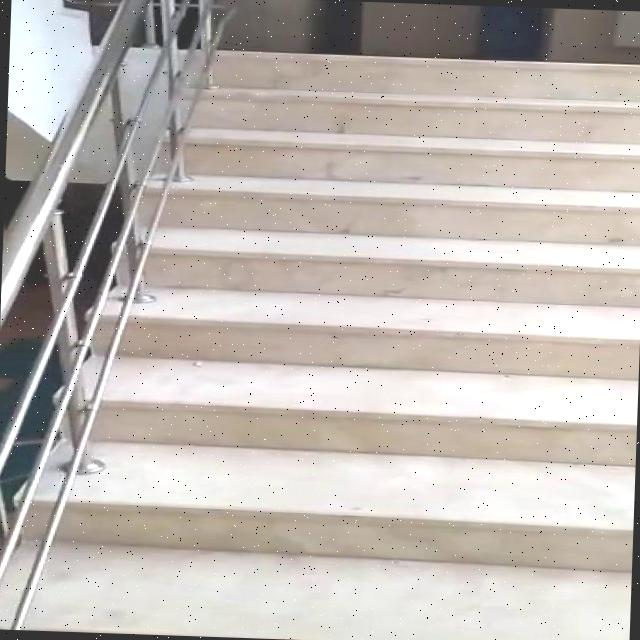stairs: (0, 39, 640, 573)
